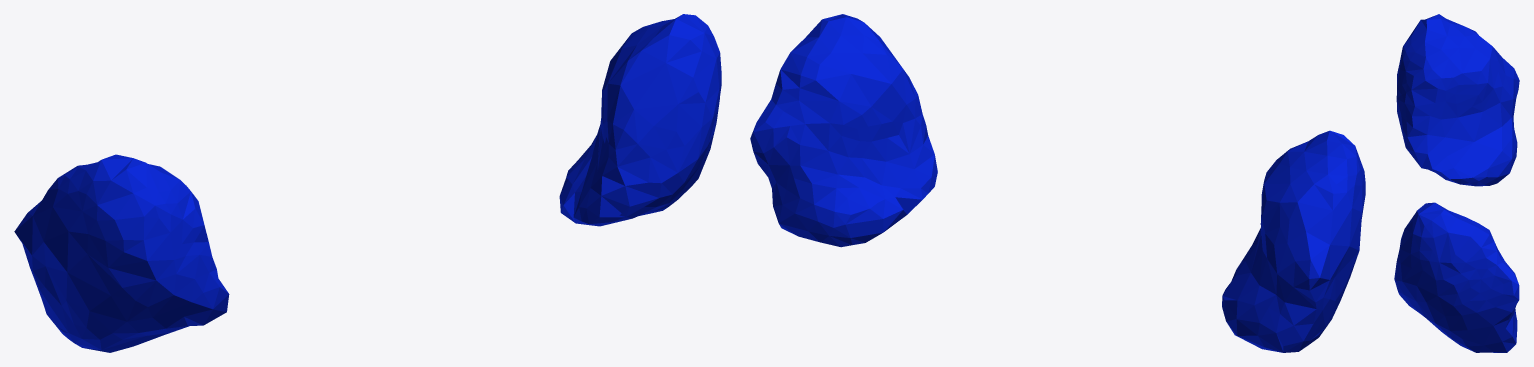
The model's file is 135-VPL-ventral posterolateral thalamic nucleus-('0.0000', '0.1529', '1.0000').obj.
3 renders of one model, left to right at view 1: azimuth 30°, elevation 25°; view 2: azimuth 150°, elevation 25°; view 3: azimuth 270°, elevation 25°, orthographic. The views are drawn at different scales.
Bounding box in the file's own units: 141 × 45.62 × 33.95.
